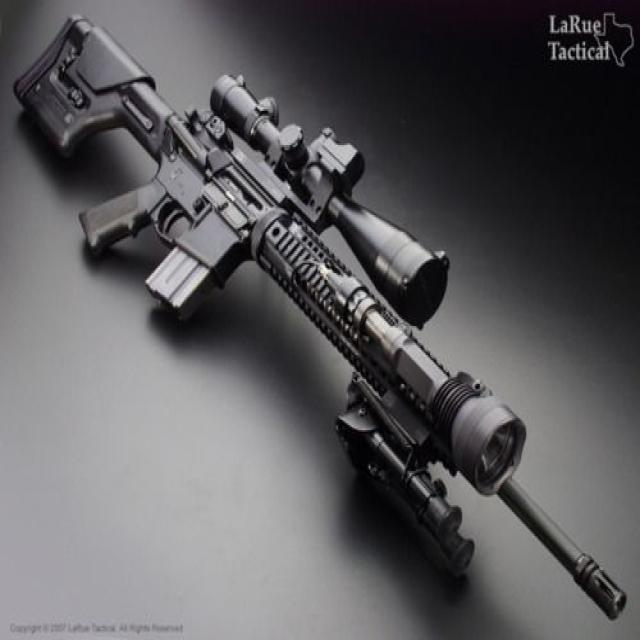Rifle: (15, 15, 626, 621)
